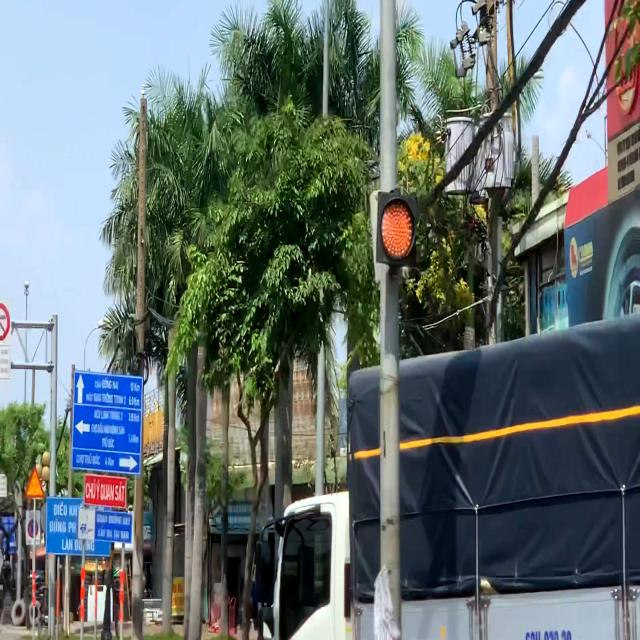S.509a: (25, 466, 44, 498)
